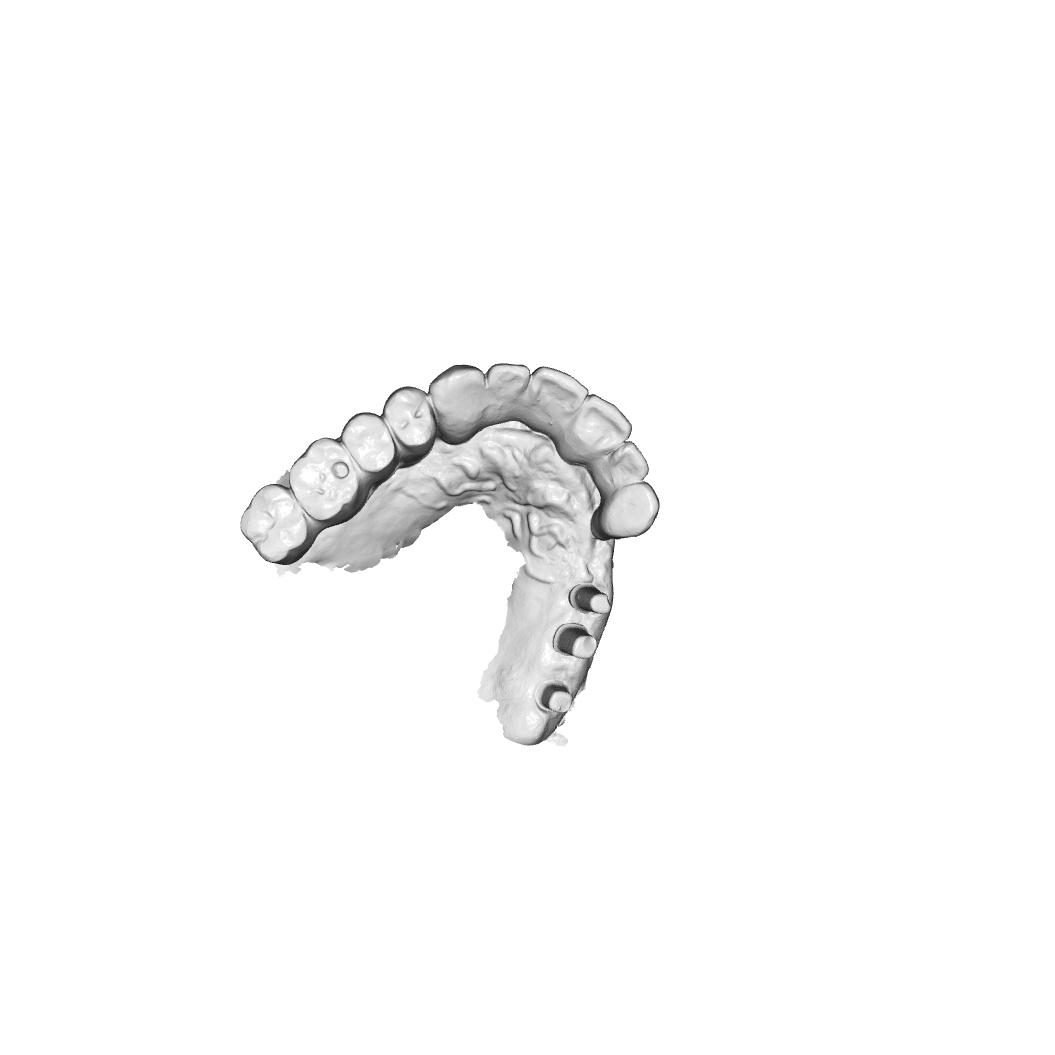abutment: (552, 623, 598, 661), (566, 582, 613, 617), (534, 678, 574, 715)
canine: (427, 363, 487, 446), (589, 482, 661, 543)
incisor: (579, 392, 636, 448), (529, 363, 592, 412), (486, 362, 531, 425), (608, 440, 650, 487)
molar: (287, 437, 364, 525), (239, 483, 315, 566)
premolar: (381, 385, 439, 459), (339, 410, 399, 478)
